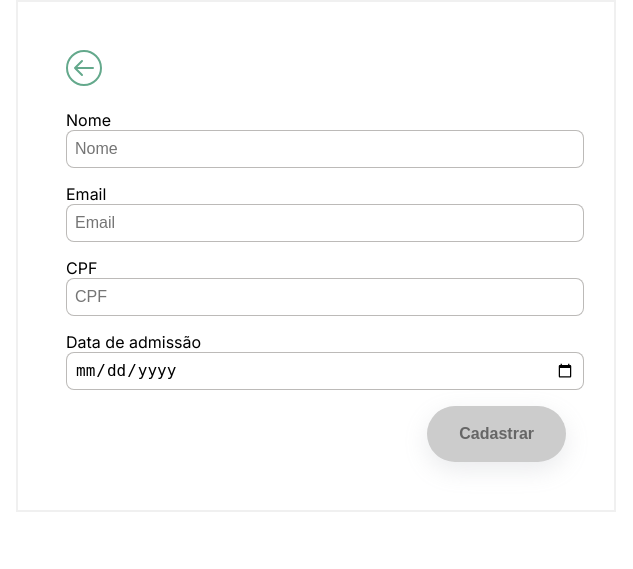
it: NewUserPage › should display error message when name input changes and it is invalid
In the field with placeholder "Nome": (325, 149) [66, 130, 584, 168], type "a"
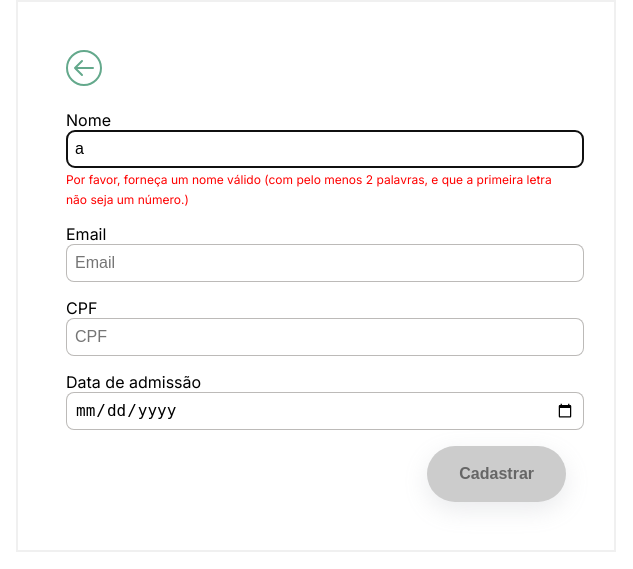
Expected: the text "Por favor, forneça um nome válido (com pelo menos 2 palavras, e que a primeira letra não seja um número.)" is shown, [66, 172, 552, 207]
